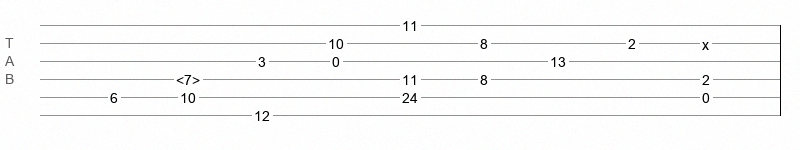0: (332, 54, 340, 64), (702, 90, 710, 100)
10: (180, 90, 196, 100), (328, 36, 344, 46)
11: (402, 72, 418, 82), (402, 18, 418, 28)
12: (254, 108, 270, 118)
13: (550, 54, 566, 64)
2: (628, 36, 636, 46), (702, 72, 710, 82)
24: (402, 90, 418, 100)
3: (258, 54, 266, 64)
6: (110, 90, 118, 100)
8: (480, 72, 488, 82), (480, 36, 488, 46)
harmonic: (176, 72, 200, 82)
x: (702, 37, 709, 45)
